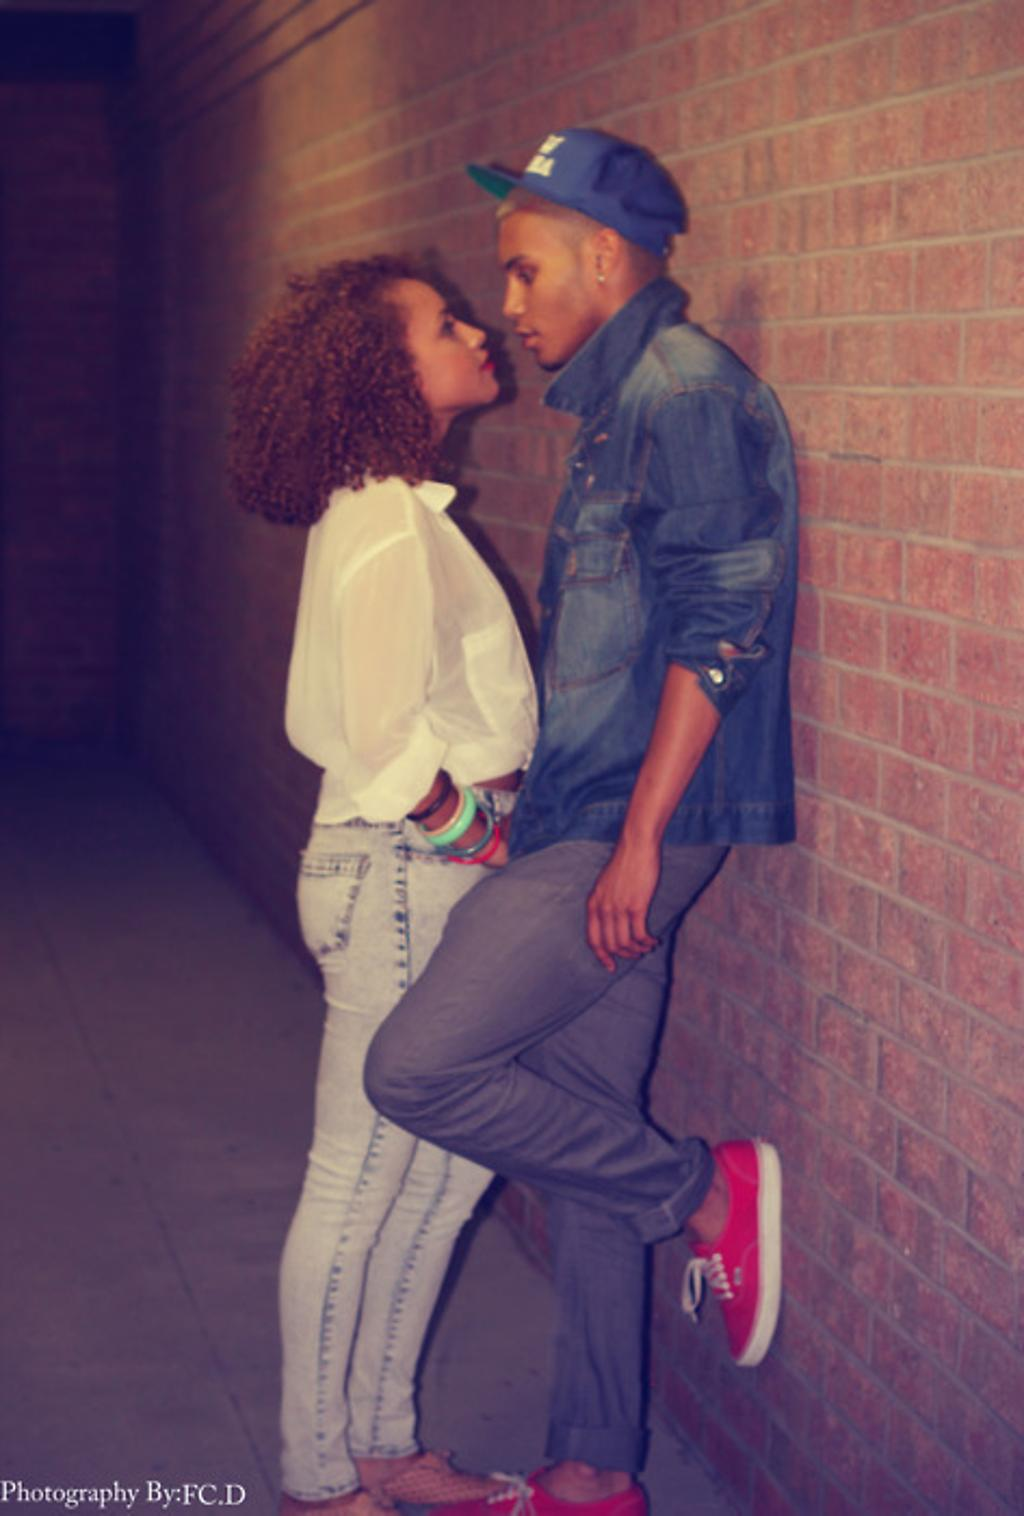face: (494, 216, 595, 367), (385, 284, 503, 411)
